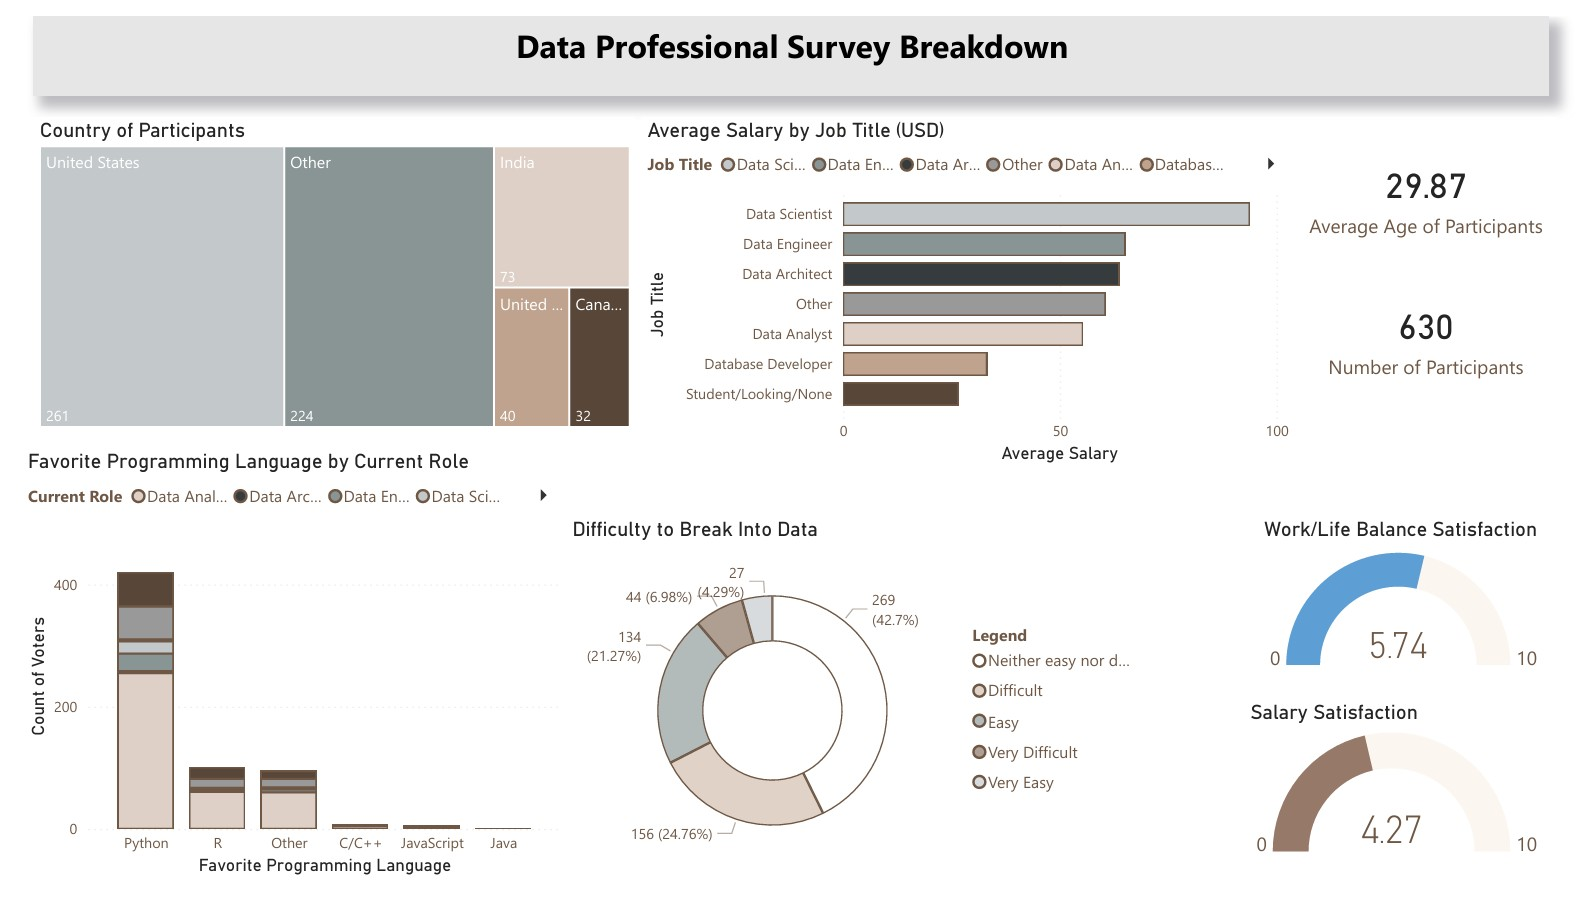

The page's visual inventory and layout, read from the dashboard file:
{"tool":"powerbi","page":{"name":"Page 1","canvas":[1280,720],"ordinal":0},"visuals":[{"type":"textbox","box":[9.7,0,1263.5,66.1],"z":0},{"type":"card","fields":{"Values":["Avg(Data Professional Survey.Q10 - Current Age)"]},"box":[1060,84.3,220,131.4],"z":1000},{"type":"card","fields":{"Values":["Count(Data Professional Survey.Unique ID)"]},"box":[1060,201.4,220,131.4],"z":2000},{"type":"barChart","title":"Average Salary by Job Title (USD)","fields":{"Category":["Data Professional Survey.Q1 - Which Title Best Fits your Current Role?.1"],"Y":["Avg(Data Professional Survey.Average Salary )"],"Series":["Data Professional Survey.Q1 - Which Title Best Fits your Current Role?.1"]},"box":[515.7,84.3,544.3,292.9],"z":3000},{"type":"columnChart","title":"Favorite Programming Language by Current Role","fields":{"Category":["Data Professional Survey.Q5 - Favorite Programming Language.1"],"Y":["CountNonNull(Data Professional Survey.Unique ID)"],"Series":["Data Professional Survey.Q1 - Which Title Best Fits your Current Role?.1"]},"box":[0,360,454.3,360],"z":4000},{"type":"treemap","title":"Country of Participants","fields":{"Values":["CountNonNull(Data Professional Survey.Q11 - Which Country do you live in?.1)"],"Group":["Data Professional Survey.Q11 - Which Country do you live in?.1"]},"box":[10,84.3,501.4,262.9],"z":5000},{"type":"gauge","title":"Work/Life Balance Satisfaction","fields":{"Y":["Avg(Data Professional Survey.Q6 - How Happy are you in your Current Position with the following? (Work/Life Balance))"],"MinValue":["Min(Data Professional Survey.Q6 - How Happy are you in your Current Position with the following? (Work/Life Balance))"],"MaxValue":["Max(Data Professional Survey.Q6 - How Happy are you in your Current Position with the following? (Work/Life Balance))"]},"box":[1030,416.2,242.5,140],"z":6000},{"type":"gauge","title":"Salary Satisfaction ","fields":{"Y":["Avg(Data Professional Survey.Q6 - How Happy are you in your Current Position with the following? (Salary))"],"MinValue":["Min(Data Professional Survey.Q6 - How Happy are you in your Current Position with the following? (Salary))"],"MaxValue":["Max(Data Professional Survey.Q6 - How Happy are you in your Current Position with the following? (Salary))"]},"box":[1018.8,568.8,253.8,140],"z":7000},{"type":"donutChart","title":"Difficulty to Break Into Data","fields":{"Category":["Data Professional Survey.Q7 - How difficult was it for you to break into Data?"],"Y":["CountNonNull(Data Professional Survey.Q7 - How difficult was it for you to break into Data?)"]},"box":[454.3,415.7,487.1,304.3],"z":8000}]}

Visuals, with their boxes in screenshot pixels (x1, y1, x2, y2), scaled from the page's 1280x720 canvas onto the 1588x901 screenshot:
textbox: region(12, 0, 1580, 83)
card - Avg(Data Professional Survey.Q10 - Current Age): region(1315, 105, 1587, 270)
card - Count(Data Professional Survey.Unique ID): region(1315, 252, 1587, 416)
"Average Salary by Job Title (USD)" barChart: region(640, 105, 1315, 472)
"Favorite Programming Language by Current Role" columnChart: region(0, 450, 564, 900)
"Country of Participants" treemap: region(12, 105, 634, 434)
"Work/Life Balance Satisfaction" gauge: region(1278, 521, 1579, 696)
"Salary Satisfaction " gauge: region(1264, 712, 1579, 887)
"Difficulty to Break Into Data" donutChart: region(564, 520, 1168, 900)
